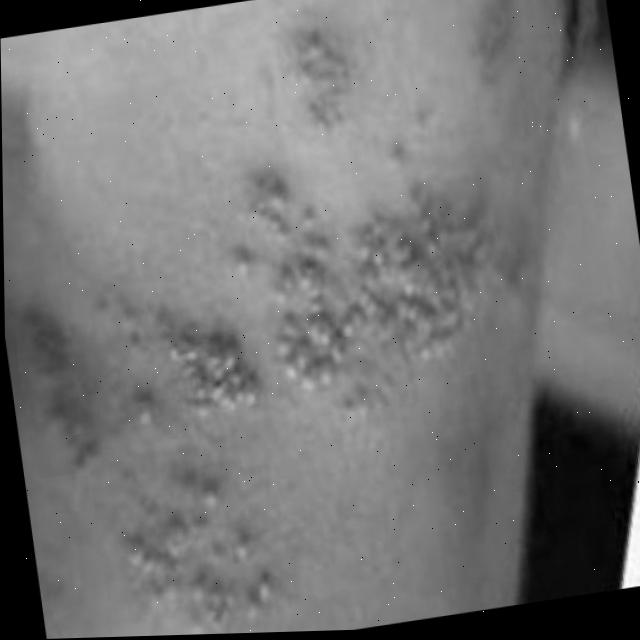Shingles: (2, 123, 557, 640), (265, 11, 366, 140), (443, 0, 530, 91)
